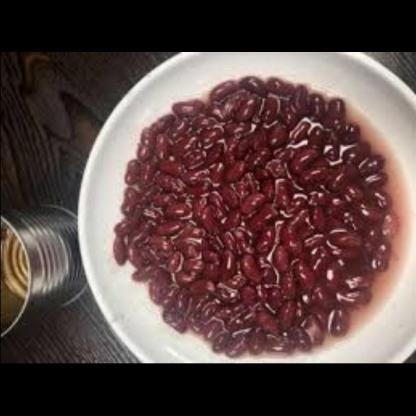beans: (98, 64, 410, 363)
